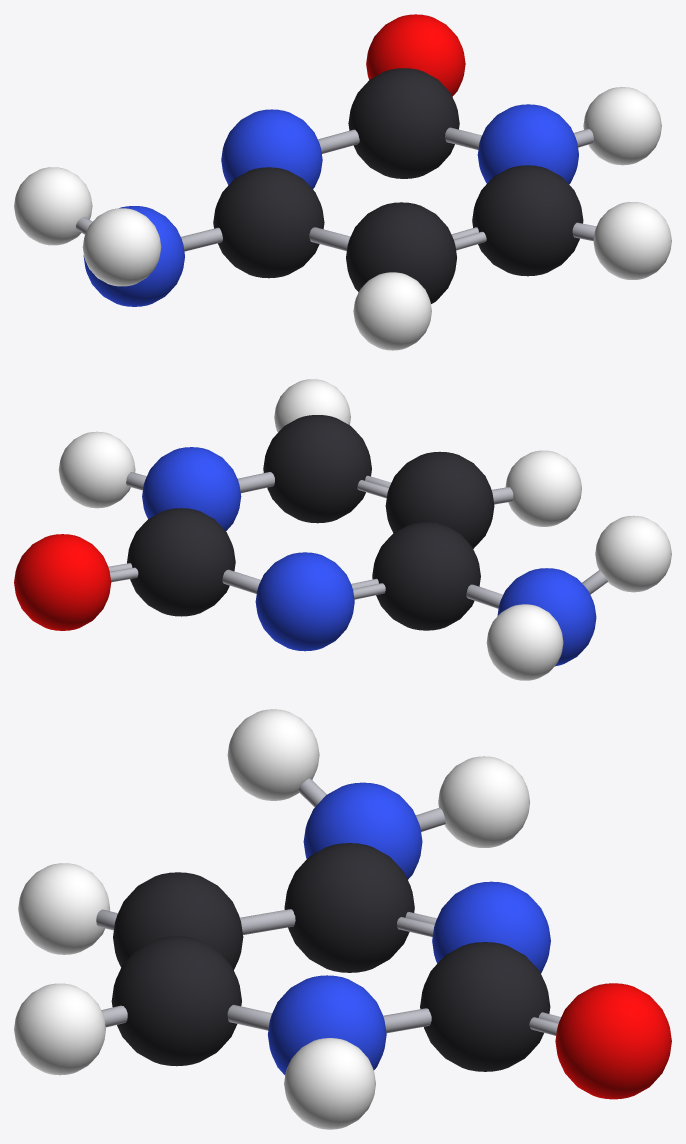
File: cytosine.glb
3 views of the same model, one above another, from view 1: azimuth 30°, elevation 25°; view 2: azimuth 150°, elevation 25°; view 3: azimuth 270°, elevation 25° (orthographic). The views are drawn at different scales.
Visible parts, largest first — view 1: C3, C1, C5, C2, N4, N7, O6, H10, H8, H11, H12, H9 (+5 smaller); view 2: C5, C3, C1, N7, O6, C2, N4, H9, N0, H8, H10, H12 (+4 smaller); view 3: C1, C3, C5, O6, C2, N4, N0, N7, H11, H12, H9, H8 (+4 smaller).
Part boxes in pixels (x1=…): C3: x1=472, y1=165, x2=583, y2=276; C1: x1=213, y1=167, x2=324, y2=278; C5: x1=348, y1=68, x2=459, y2=178; C2: x1=346, y1=202, x2=456, y2=303; N4: x1=477, y1=104, x2=578, y2=184; N7: x1=221, y1=109, x2=322, y2=188; O6: x1=366, y1=14, x2=465, y2=96; H10: x1=353, y1=272, x2=431, y2=350; H8: x1=82, y1=208, x2=161, y2=286; H11: x1=593, y1=202, x2=671, y2=279; H12: x1=583, y1=87, x2=661, y2=165; H9: x1=14, y1=167, x2=92, y2=245; C5: x1=127, y1=508, x2=235, y2=616; C3: x1=263, y1=415, x2=371, y2=523; C1: x1=372, y1=522, x2=480, y2=630; N7: x1=255, y1=552, x2=354, y2=651; O6: x1=14, y1=534, x2=111, y2=630; C2: x1=385, y1=451, x2=494, y2=548; N4: x1=142, y1=447, x2=241, y2=530; H9: x1=486, y1=604, x2=563, y2=680; N0: x1=497, y1=568, x2=596, y2=666; H8: x1=595, y1=515, x2=671, y2=592; H10: x1=505, y1=450, x2=581, y2=526; H12: x1=58, y1=431, x2=135, y2=508; C1: x1=284, y1=843, x2=414, y2=972; C3: x1=111, y1=936, x2=241, y2=1066; C5: x1=420, y1=942, x2=550, y2=1071; O6: x1=555, y1=983, x2=671, y2=1099; C2: x1=113, y1=872, x2=243, y2=970; N4: x1=267, y1=975, x2=386, y2=1075; N0: x1=303, y1=782, x2=422, y2=879; N7: x1=432, y1=881, x2=550, y2=973; H11: x1=14, y1=983, x2=105, y2=1075; H12: x1=284, y1=1038, x2=375, y2=1129; H9: x1=438, y1=756, x2=530, y2=847; H8: x1=227, y1=709, x2=319, y2=800.
Size of the model in its own units: 6.27 by 1.32 by 5.15.
